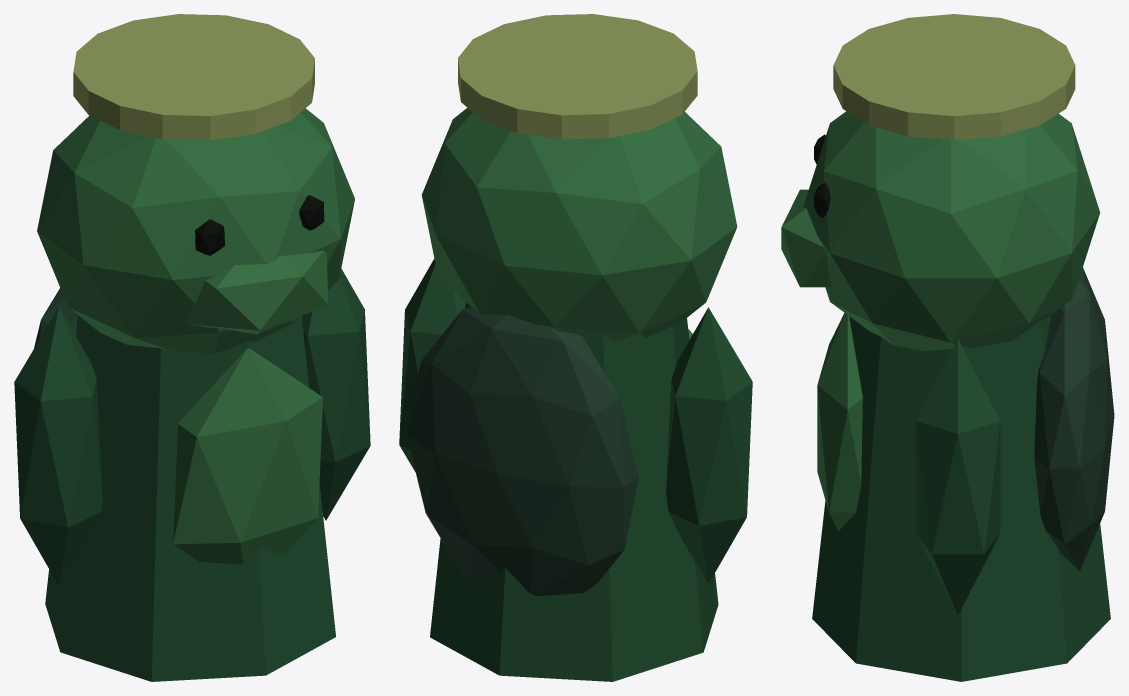
Rendered from kappa_glimpse.glb.
3 views of the same model, side by side, from view 1: azimuth 30°, elevation 25°; view 2: azimuth 150°, elevation 25°; view 3: azimuth 270°, elevation 25° (orthographic).
Visible parts, largest first — view 1: KappaGlimpse; view 2: KappaGlimpse; view 3: KappaGlimpse.
Boxes of the visible parts, bbox=[...] form: KappaGlimpse: bbox=[14, 14, 370, 681]; KappaGlimpse: bbox=[399, 14, 752, 681]; KappaGlimpse: bbox=[781, 14, 1114, 681].
Bounding box in the file's own units: 1.11 × 1.72 × 0.9361.
